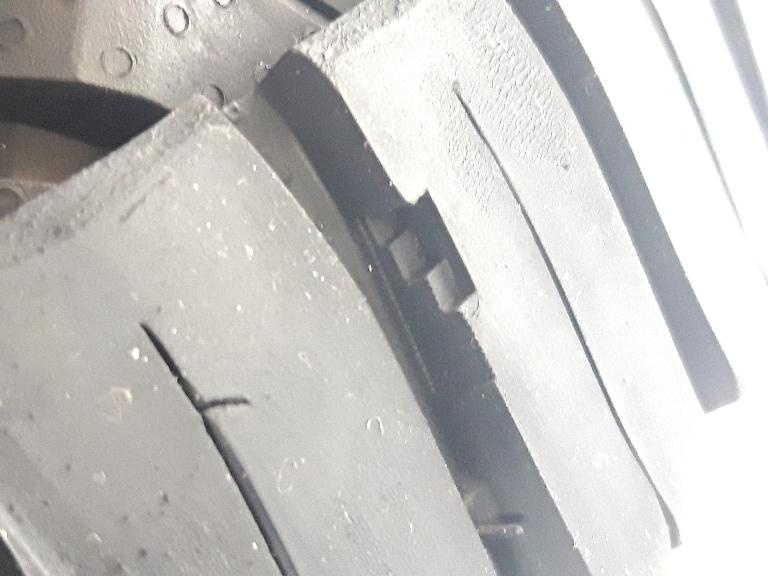temoin:75: (349, 181, 491, 353)
